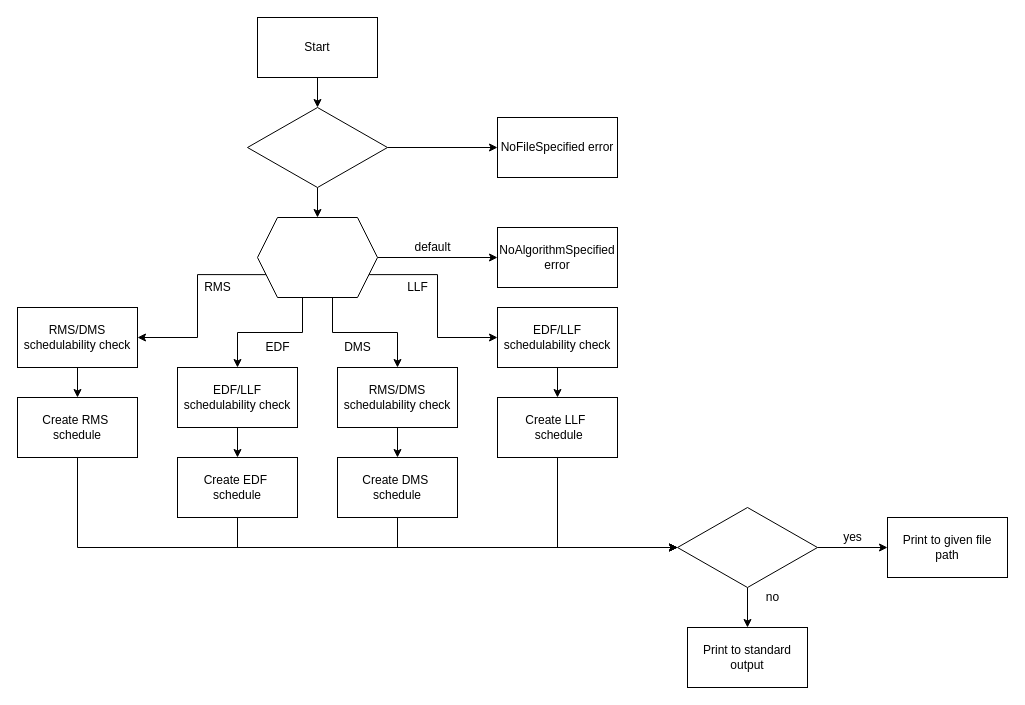
Some shapes in this 1025 by 705 pixel diagram are drawn without their labels. The shapes that lost their labels are listed below. From the top down, each one's centre as x and y in pixels, then its label:
At (x=317, y=147): "has input file path".
At (x=317, y=257): "switch(ALG)".
At (x=747, y=547): "has output file path".
